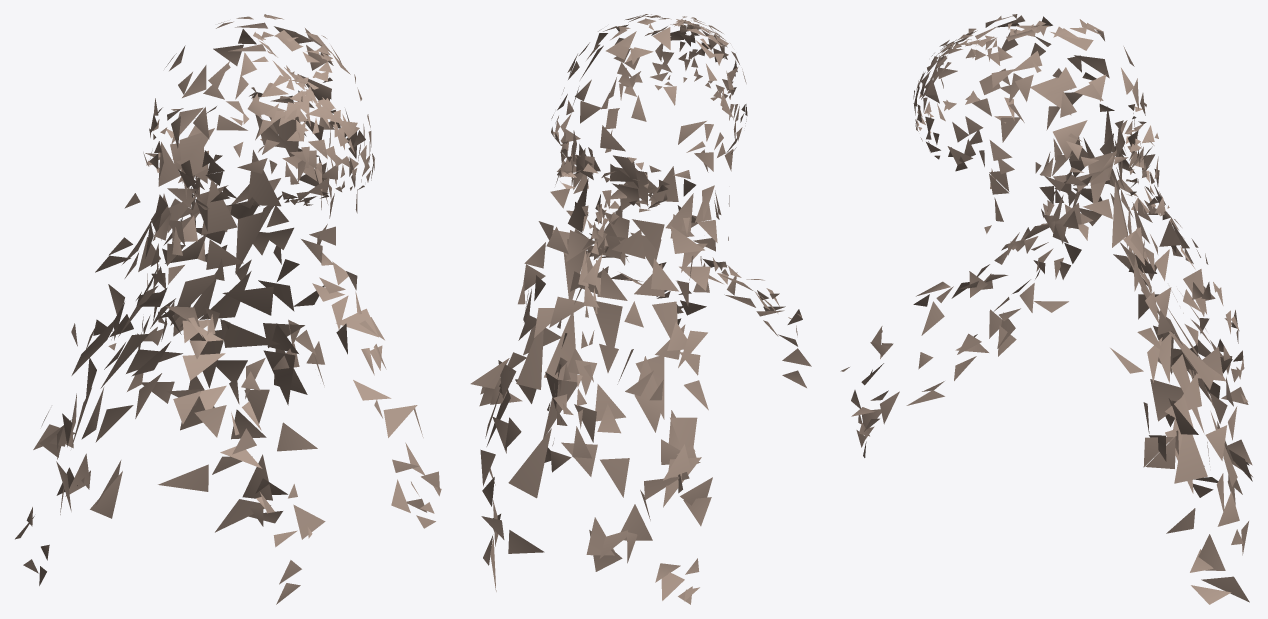
Rendered from female_hair_01_lod2.glb.
3 renders of one model, left to right at view 1: azimuth 30°, elevation 25°; view 2: azimuth 150°, elevation 25°; view 3: azimuth 270°, elevation 25°, orthographic. The views are drawn at different scales.
Parts seen in each view (by area): view 1: female-hair-01; view 2: female-hair-01; view 3: female-hair-01.
Boxes of the visible parts, left/top/right/bottom form: female-hair-01: left=15, top=14, right=441, bottom=604; female-hair-01: left=470, top=14, right=811, bottom=604; female-hair-01: left=840, top=14, right=1252, bottom=604.
Bounding box in the file's own units: 0.2879 × 0.5828 × 0.3955.
